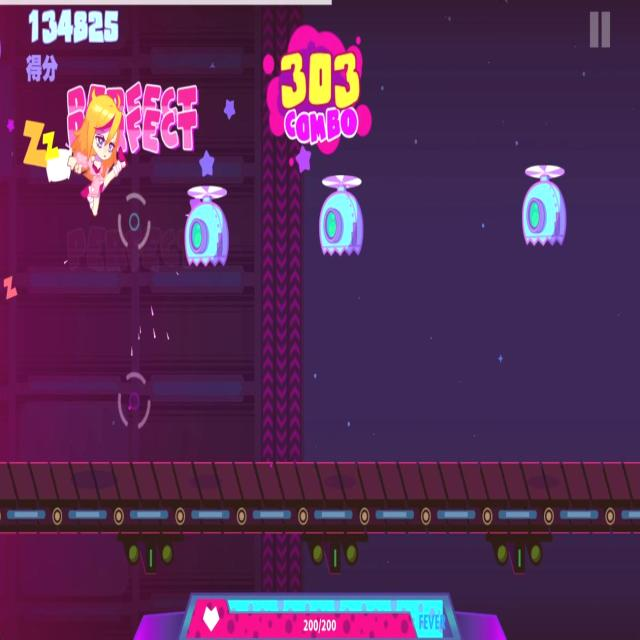jiqiqiu: (184, 180, 233, 276), (518, 162, 567, 255), (319, 176, 369, 262)
